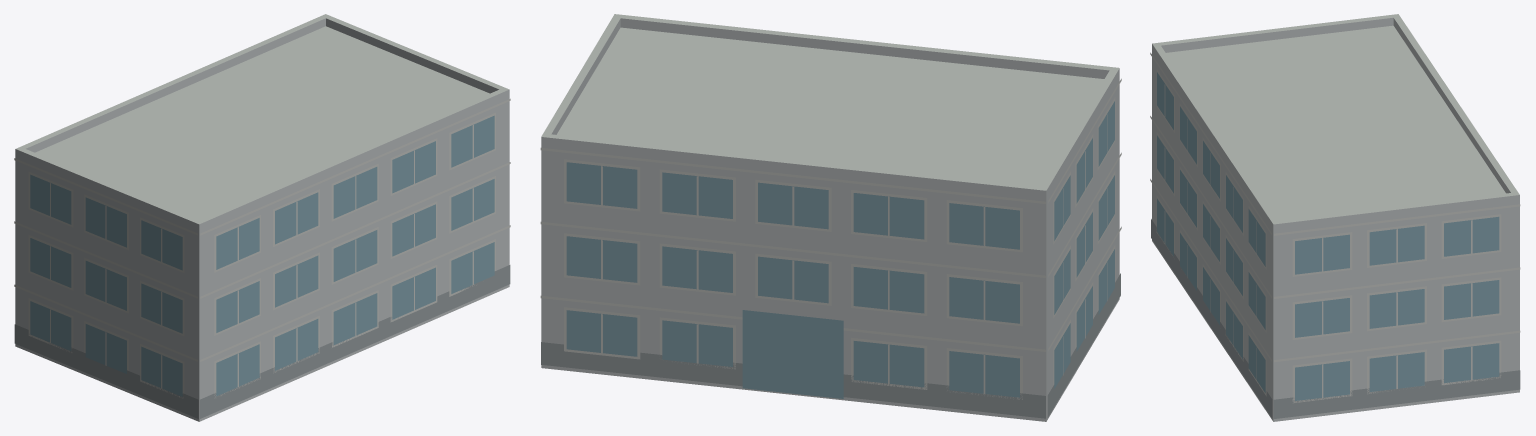
Rendered from public-7d9d1d04-7d58-4b9b-beee-0a54b93741f5.glb.
3 renders of one model, left to right at view 1: azimuth 30°, elevation 25°; view 2: azimuth 150°, elevation 25°; view 3: azimuth 270°, elevation 25°, orthographic. The views are drawn at different scales.
Visible parts, largest first — view 1: public-7d9d1d04-7d58-4b9b-beee-0a54b93741f5; view 2: public-7d9d1d04-7d58-4b9b-beee-0a54b93741f5; view 3: public-7d9d1d04-7d58-4b9b-beee-0a54b93741f5.
Part boxes in pixels (box(x1,y1,x2,y2)): public-7d9d1d04-7d58-4b9b-beee-0a54b93741f5: box(14, 14, 510, 421); public-7d9d1d04-7d58-4b9b-beee-0a54b93741f5: box(540, 14, 1121, 421); public-7d9d1d04-7d58-4b9b-beee-0a54b93741f5: box(1150, 14, 1520, 421).
Bounding box in the file's own units: 21.05 × 9.15 × 15.59.
